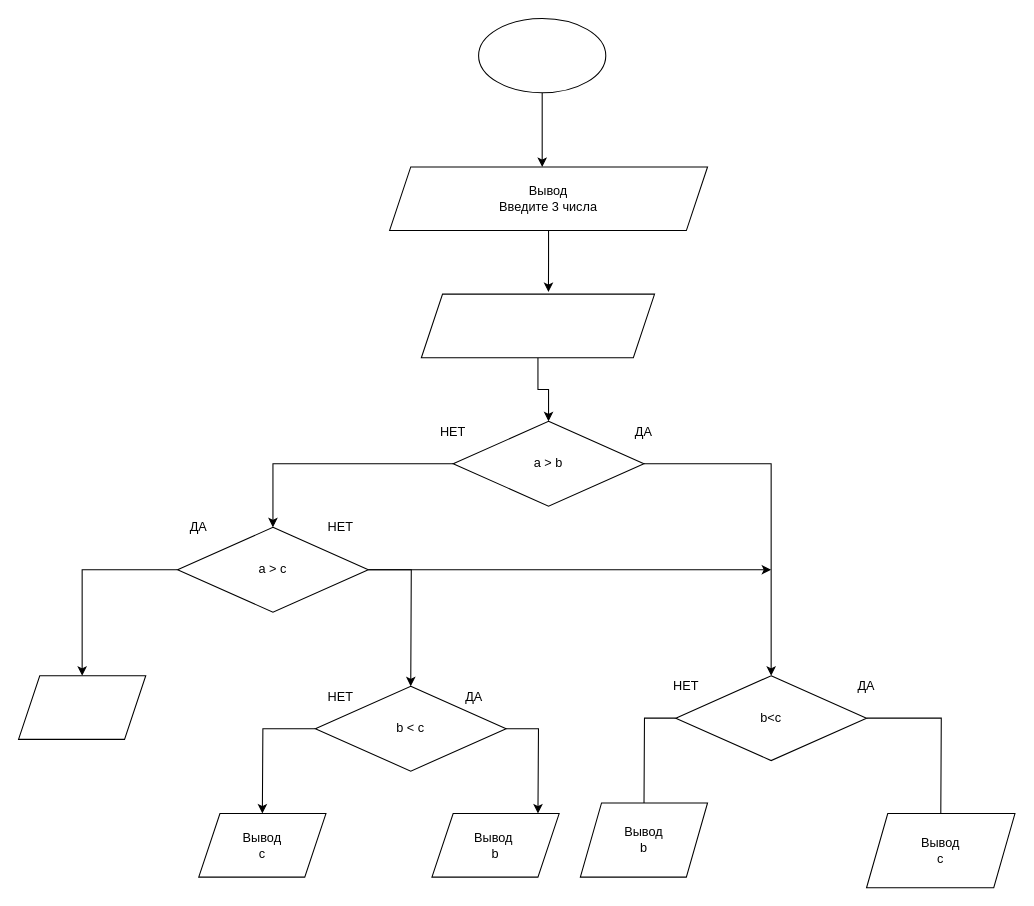
Image size: 1034x906. Some labels were removed from this diagram. The centre of each missing label's shape, as x and y in pixels:
"Ввод a, b, c" belongs at point 537,325.
"Вывод a" belongs at point 81,707.
"Начало" belongs at point 542,55.
